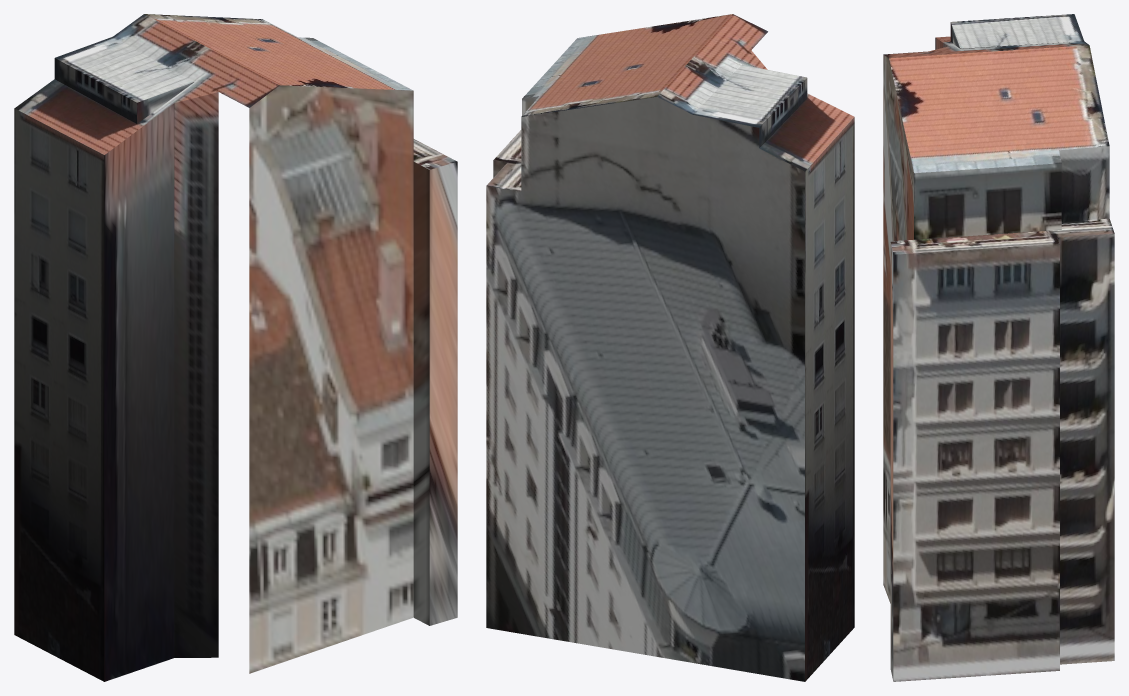
The picture shows the model from 3 angles, left to right: view 1: azimuth 30°, elevation 25°; view 2: azimuth 150°, elevation 25°; view 3: azimuth 270°, elevation 25°; orthographic projection. The views are drawn at different scales.
Visible parts, largest first — view 1: Z_UP; view 2: Z_UP; view 3: Z_UP.
Part boxes in pixels (<box>): Z_UP: <box>14,14,457,681</box>; Z_UP: <box>486,14,854,681</box>; Z_UP: <box>883,14,1114,681</box>.
Size of the model in its own units: 18.69 by 29.5 by 11.44.
Materials: 2 (1 with a texture image).
